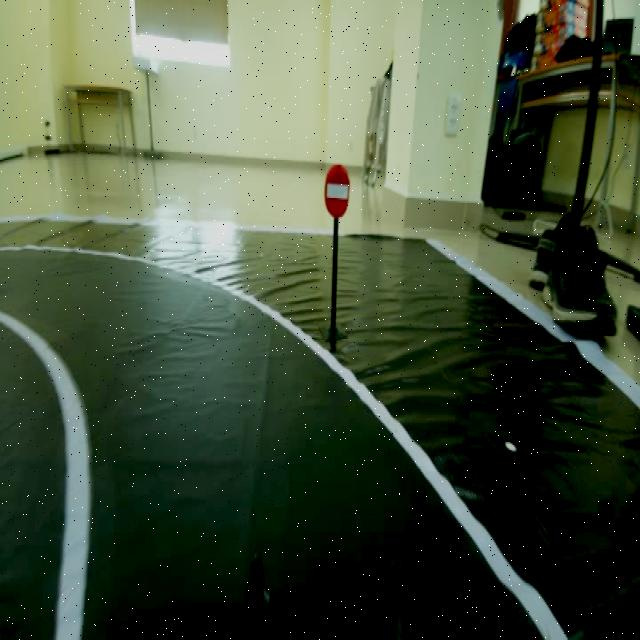no_entry: (320, 157, 356, 225)
